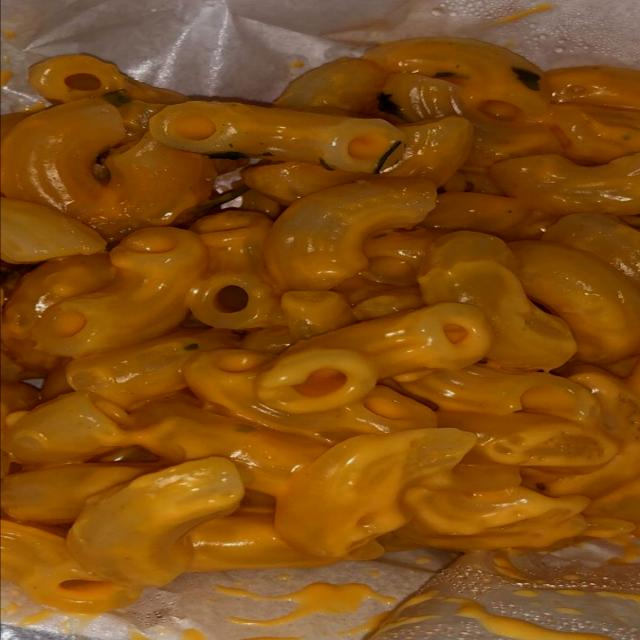pasta: (69, 92, 574, 502)
